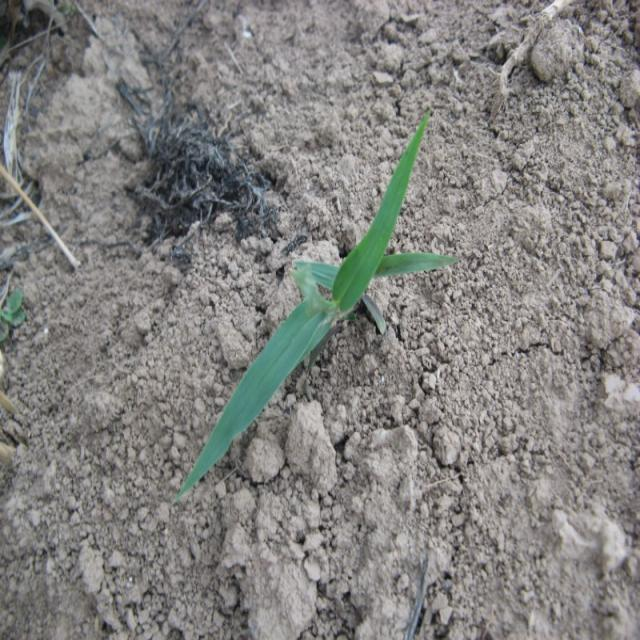bg: (170, 123, 462, 477)
